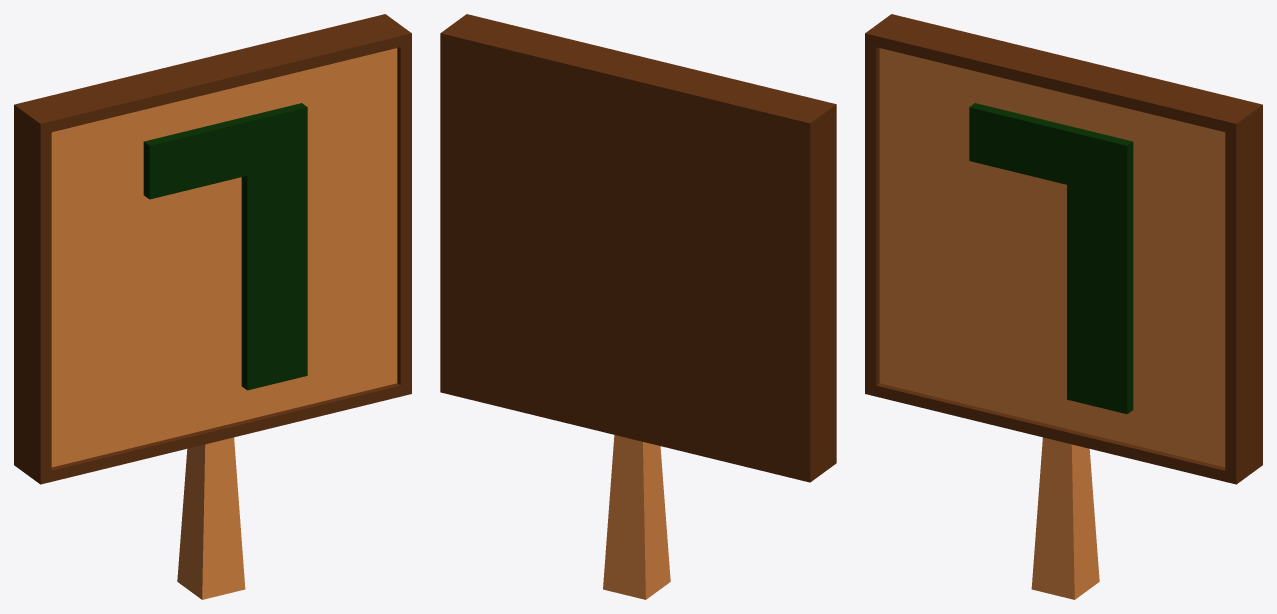
File: Sign_7.fbx
3 views of the same model, side by side, from view 1: azimuth 30°, elevation 25°; view 2: azimuth 150°, elevation 25°; view 3: azimuth 330°, elevation 25° (orthographic).
Parts seen in each view (by area): view 1: Cube; view 2: Cube; view 3: Cube.
Boxes of the visible parts, x1,y1,x2,y2 form: Cube: [14, 14, 411, 599]; Cube: [440, 14, 836, 599]; Cube: [865, 14, 1262, 599].
Size of the model in its own units: 171 by 228 by 23.88.
